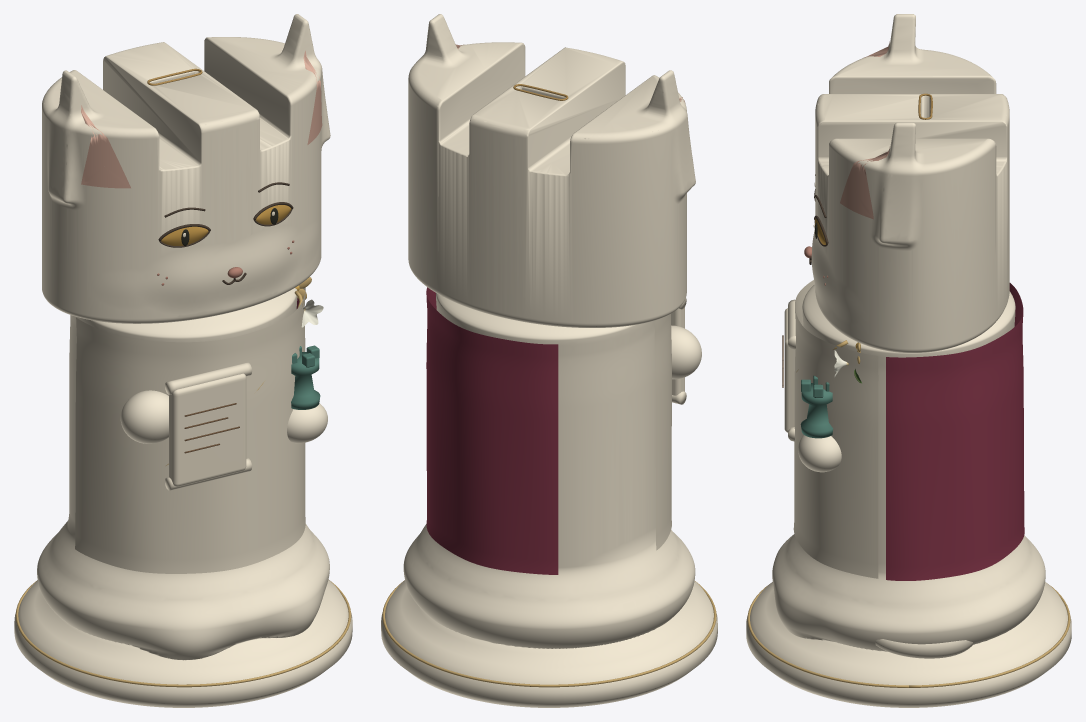
The model's file is rook.v1.glb.
3 renders of one model, left to right at view 1: azimuth 30°, elevation 25°; view 2: azimuth 150°, elevation 25°; view 3: azimuth 270°, elevation 25°, orthographic. The views are drawn at different scales.
Visible parts, largest first — view 1: Core | build sculpted chess skull, Wardrobe | toga follows the cylindrical rook torso, Core | rook shaped feline torso and seated paws, Core | flared feline chess foot, Wardrobe | planning scroll, Wardrobe | rounded ceramic paw, Face | warm rose ear interiors, Wardrobe | quiet gilt foot bead, Wardrobe | curled parchment ends, Wardrobe | small planning rook, Face | build shaped eyes, Face | eyelid contours; view 2: Core | build sculpted chess skull, Core | rook shaped feline torso and seated paws, Wardrobe | narrow court mantle at the rear, Core | flared feline chess foot, Wardrobe | toga follows the cylindrical rook torso, Wardrobe | quiet gilt foot bead, Wardrobe | rounded ceramic paw; view 3: Core | build sculpted chess skull, Wardrobe | narrow court mantle at the rear, Core | rook shaped feline torso and seated paws, Core | flared feline chess foot, Wardrobe | toga follows the cylindrical rook torso, Face | warm rose ear interiors, Wardrobe | quiet gilt foot bead, Wardrobe | rounded ceramic paw, Core | low curled ceramic tail, Wardrobe | small planning rook, Wardrobe | planning scroll.
Part boxes in pixels (x1,y1,x2,y2): Core | build sculpted chess skull: [42, 14, 330, 323]; Wardrobe | toga follows the cylindrical rook torso: [75, 287, 305, 573]; Core | rook shaped feline torso and seated paws: [37, 288, 329, 660]; Core | flared feline chess foot: [14, 580, 352, 707]; Wardrobe | planning scroll: [169, 373, 246, 486]; Wardrobe | rounded ceramic paw: [120, 390, 327, 443]; Face | warm rose ear interiors: [81, 50, 322, 188]; Wardrobe | quiet gilt foot bead: [15, 579, 351, 687]; Wardrobe | curled parchment ends: [165, 362, 252, 490]; Wardrobe | small planning rook: [291, 352, 320, 409]; Face | build shaped eyes: [161, 205, 291, 245]; Face | eyelid contours: [158, 202, 293, 247]; Core | build sculpted chess skull: [408, 14, 695, 327]; Core | rook shaped feline torso and seated paws: [403, 293, 695, 648]; Wardrobe | narrow court mantle at the rear: [426, 287, 558, 574]; Core | flared feline chess foot: [381, 580, 717, 707]; Wardrobe | toga follows the cylindrical rook torso: [654, 314, 671, 550]; Wardrobe | quiet gilt foot bead: [382, 580, 716, 687]; Wardrobe | rounded ceramic paw: [671, 325, 701, 379]; Core | build sculpted chess skull: [811, 14, 1009, 352]; Wardrobe | narrow court mantle at the rear: [886, 283, 1024, 580]; Core | rook shaped feline torso and seated paws: [772, 284, 1045, 651]; Core | flared feline chess foot: [746, 582, 1071, 707]; Wardrobe | toga follows the cylindrical rook torso: [793, 280, 878, 578]; Face | warm rose ear interiors: [840, 41, 889, 219]; Wardrobe | quiet gilt foot bead: [747, 584, 1070, 687]; Wardrobe | rounded ceramic paw: [798, 435, 841, 472]; Core | low curled ceramic tail: [875, 639, 972, 658]; Wardrobe | small planning rook: [800, 383, 833, 438]; Wardrobe | planning scroll: [784, 308, 795, 432].
Bounding box in the file's own units: 0.5134 × 1 × 0.5134.
